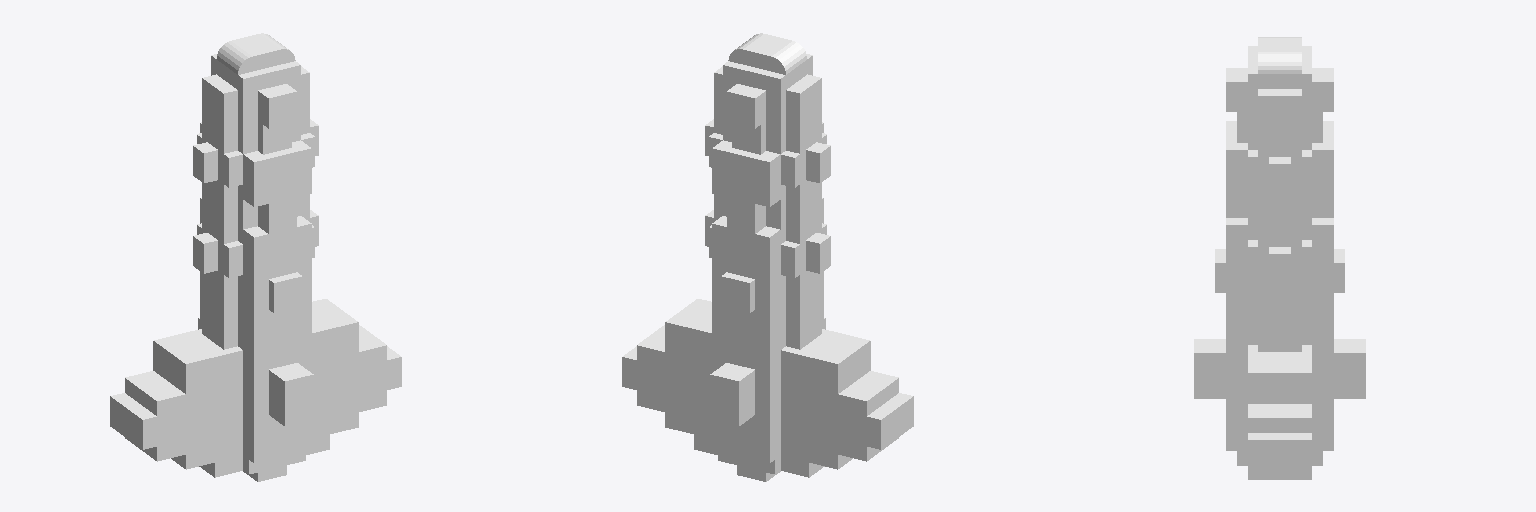
The model's file is MissileCorvette.obj.
3 views of the same model, side by side, from view 1: azimuth 30°, elevation 25°; view 2: azimuth 150°, elevation 25°; view 3: azimuth 270°, elevation 25° (orthographic).
Size of the model in its own units: 18 by 28 by 10.4.